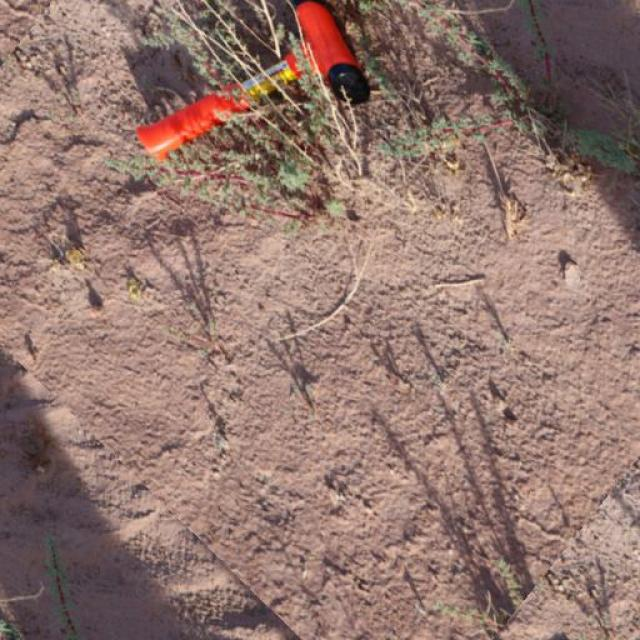mallet: (136, 0, 373, 162)
